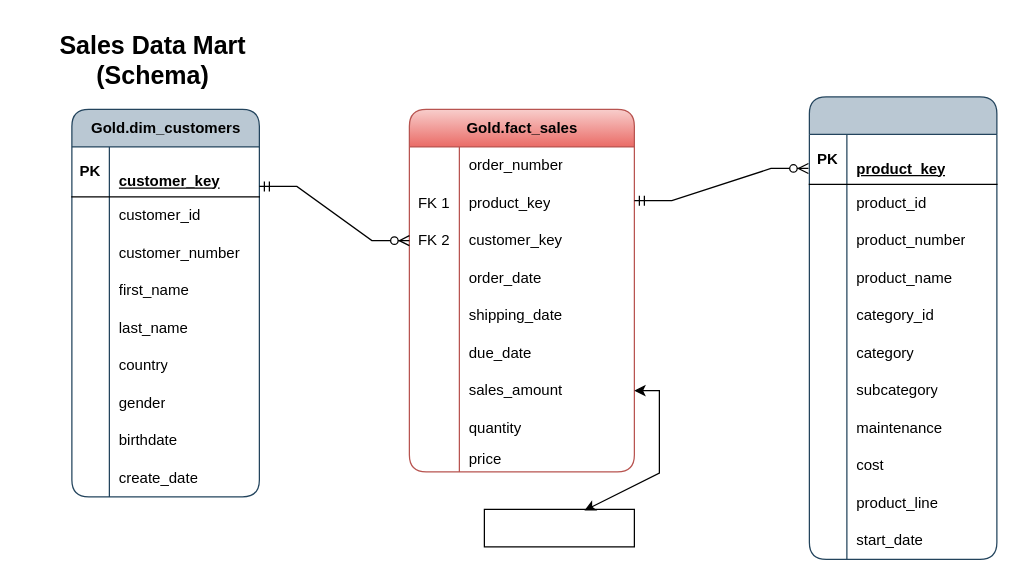
Some shapes in this 1019 by 581 pixel diagram are drawn without their labels. Here are the shapes that lost their labels. From the top down, the box of each, then its label:
(808, 96, 997, 559): Gold.dim_products
(483, 508, 634, 547): Sales Calculation = Quantity * price
